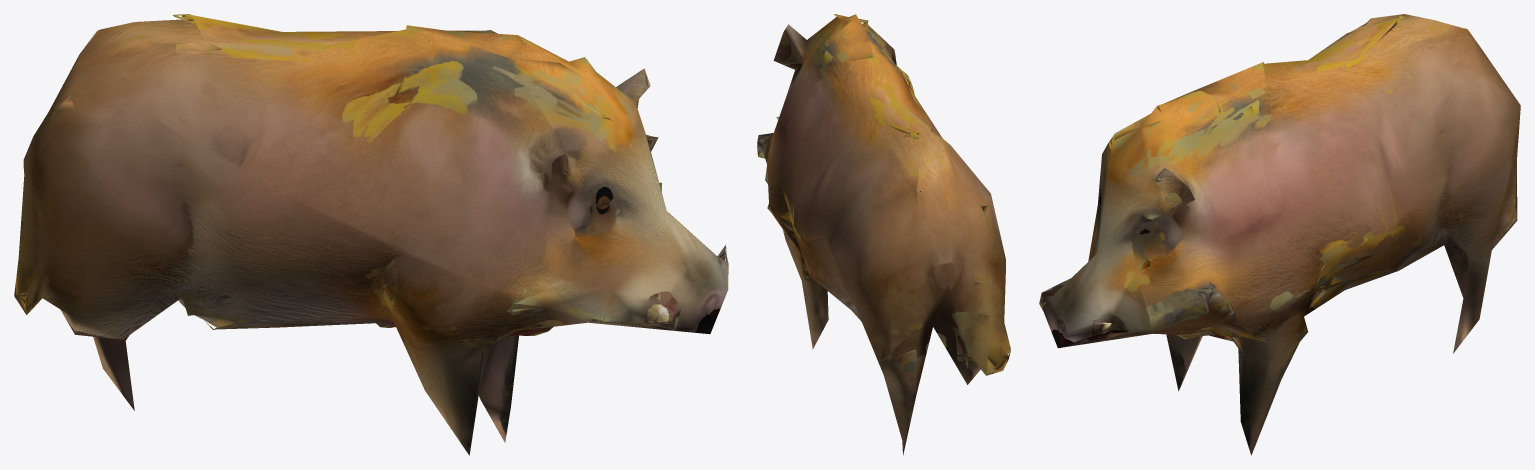
File: hoglin_single_1500_r2.glb
3 views of the same model, side by side, from view 1: azimuth 30°, elevation 25°; view 2: azimuth 150°, elevation 25°; view 3: azimuth 270°, elevation 25° (orthographic). The views are drawn at different scales.
Size of the model in its own units: 0.8506 by 0.6892 by 0.8405.
Materials: 1 (1 with a texture image).
